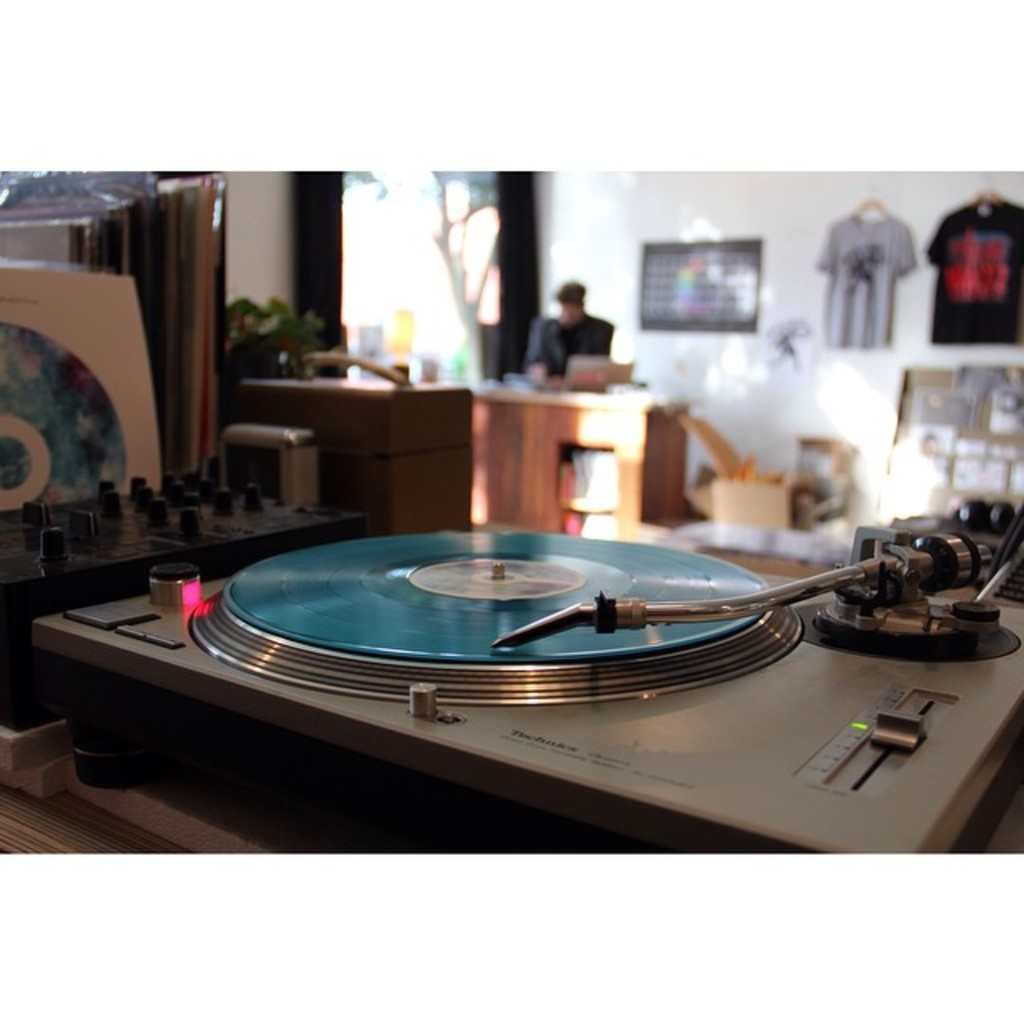Table: (224, 366, 499, 550), (453, 371, 691, 531)
